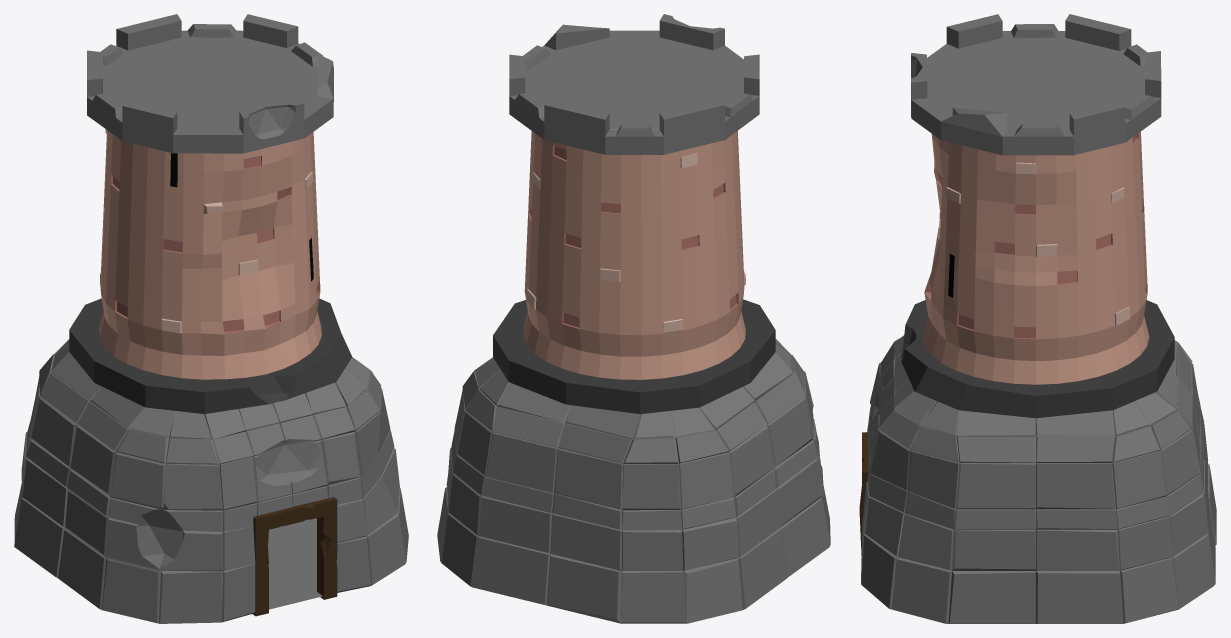
Rendered from _MudBrickTowerBroken.fbx.
The picture shows the model from 3 angles, left to right: view 1: azimuth 30°, elevation 25°; view 2: azimuth 150°, elevation 25°; view 3: azimuth 270°, elevation 25°; orthographic projection.
Visible parts, largest first — view 1: MudBrickTower; view 2: MudBrickTower; view 3: MudBrickTower.
Part boxes in pixels (x1,y1,x2,y2): MudBrickTower: (14,14,408,623); MudBrickTower: (437,14,830,623); MudBrickTower: (859,14,1216,623).
Size of the model in its own units: 829 by 1225 by 819.
